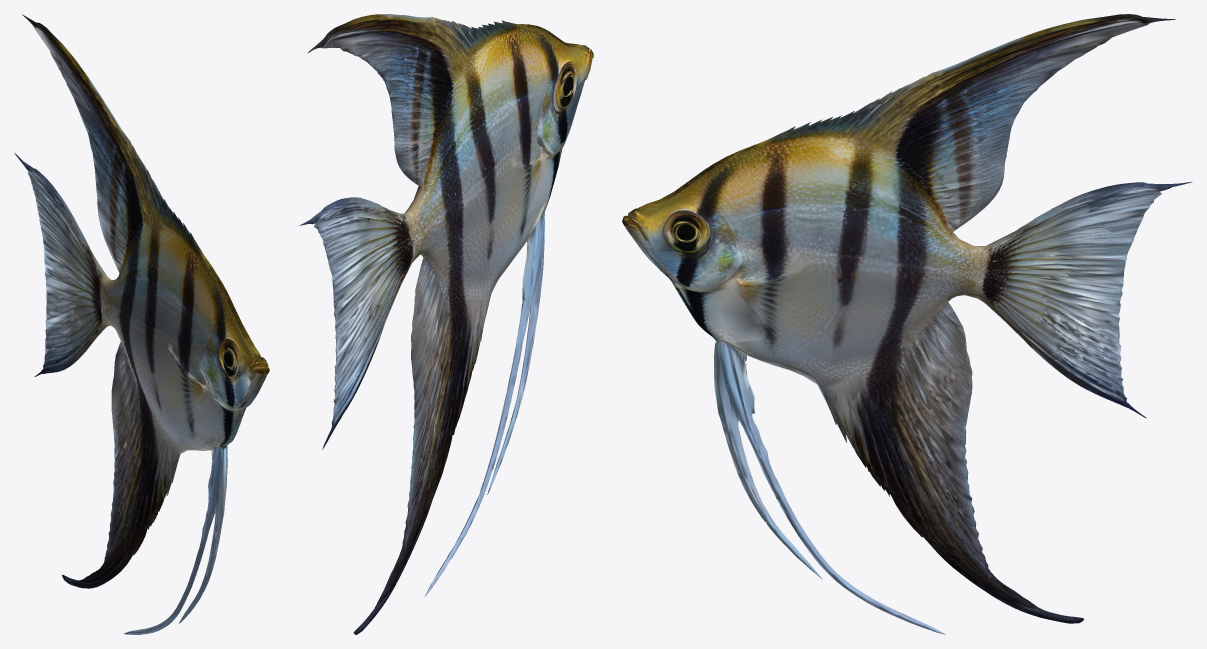
The model's file is angelfish.glb.
3 views of the same model, side by side, from view 1: azimuth 30°, elevation 25°; view 2: azimuth 150°, elevation 25°; view 3: azimuth 270°, elevation 25° (orthographic). The views are drawn at different scales.
Parts seen in each view (by area): view 1: Body; view 2: Body; view 3: Body.
Part boxes in pixels (x1=…): Body: x1=14, y1=14, x2=269, y2=634; Body: x1=298, y1=14, x2=593, y2=634; Body: x1=622, y1=14, x2=1191, y2=634.
Size of the model in its own units: 0.0703 by 1.14 by 0.947.
Materials: 1 (1 with a texture image).
